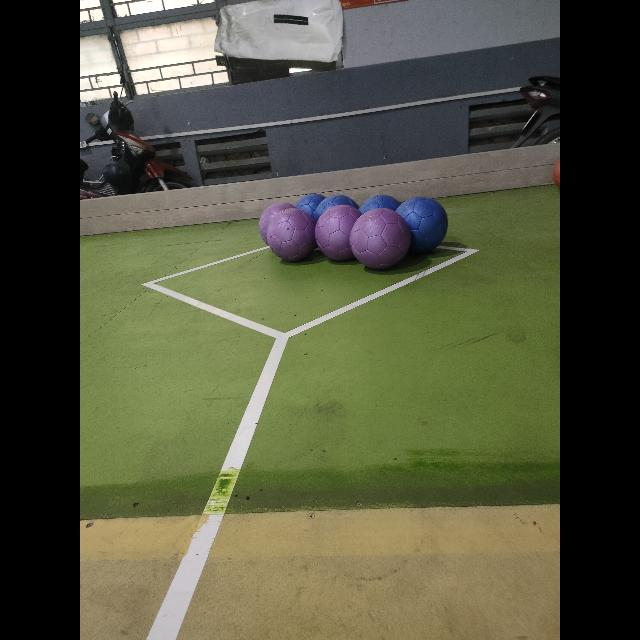B: (397, 197, 448, 253), (296, 193, 326, 219), (360, 195, 400, 213)
P: (350, 208, 410, 268), (310, 202, 362, 258), (266, 208, 316, 260)
R: (553, 158, 559, 188)
